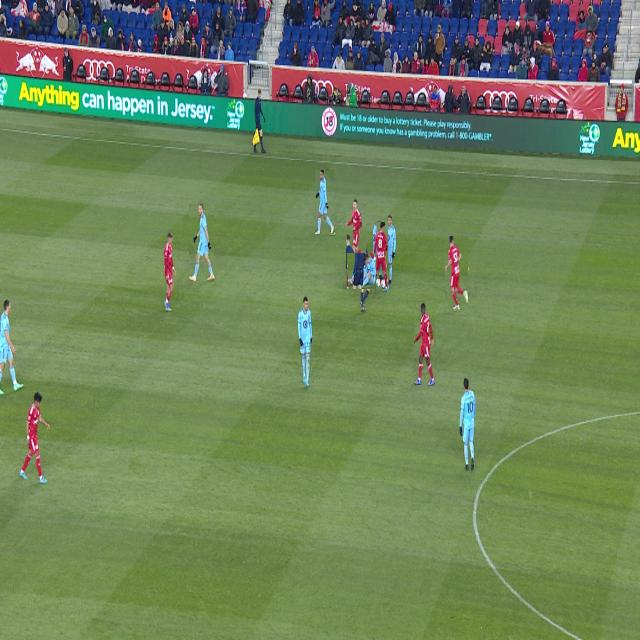football: (376, 279, 381, 287)
player: (20, 392, 50, 484), (0, 300, 24, 391), (190, 204, 214, 281), (414, 304, 435, 385), (446, 236, 468, 310), (346, 200, 366, 269), (460, 379, 475, 470), (377, 216, 396, 286), (298, 297, 312, 387), (316, 170, 334, 234), (347, 254, 376, 289), (374, 222, 388, 292), (164, 233, 176, 311)
referee: (358, 235, 371, 312)
